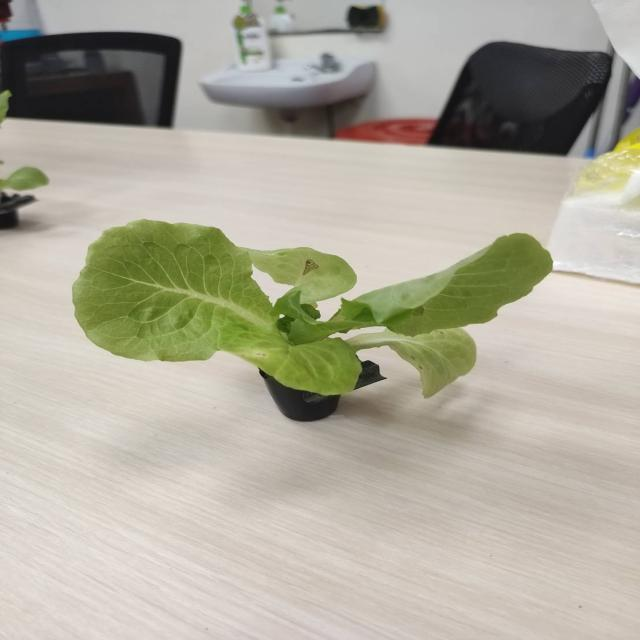Lettuce-Not-Ready-to-Harvest: (73, 220, 552, 396)
